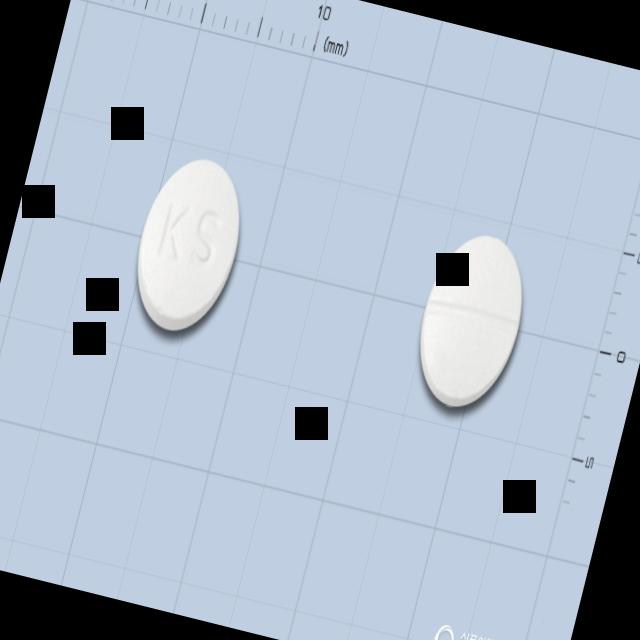Levofroxin: (121, 149, 256, 344)
